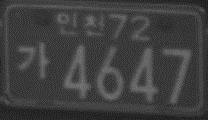2: (130, 15, 151, 41)
4: (129, 46, 159, 102), (61, 45, 91, 98)
6: (96, 45, 125, 100)
7: (162, 48, 193, 104), (107, 13, 129, 39)
가: (15, 41, 50, 79)
인천_O: (56, 12, 105, 37)
